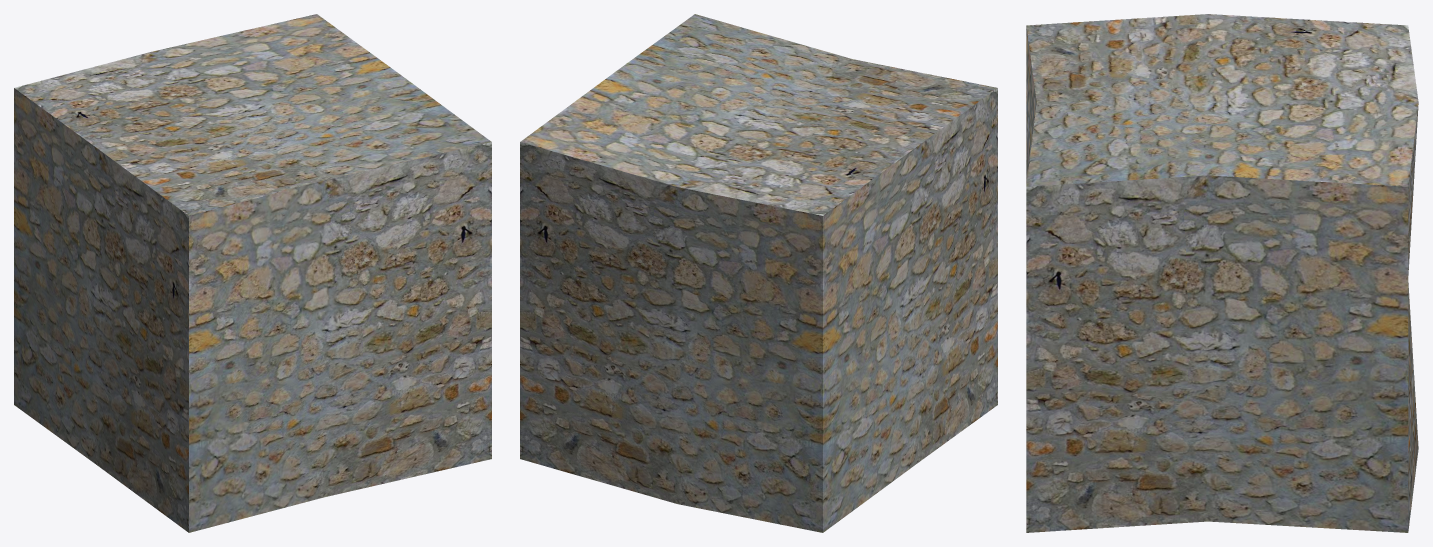
File: stonewall.glb
3 renders of one model, left to right at view 1: azimuth 30°, elevation 25°; view 2: azimuth 150°, elevation 25°; view 3: azimuth 270°, elevation 25°, orthographic. The views are drawn at different scales.
Parts seen in each view (by area): view 1: Cube.001; view 2: Cube.001; view 3: Cube.001.
Part boxes in pixels (<box>): Cube.001: <box>14,14,491,532</box>; Cube.001: <box>520,14,997,532</box>; Cube.001: <box>1026,14,1418,532</box>.
Bounding box in the file's own units: 1.02 × 1.03 × 1.03.
Materials: 1 (1 with a texture image).
